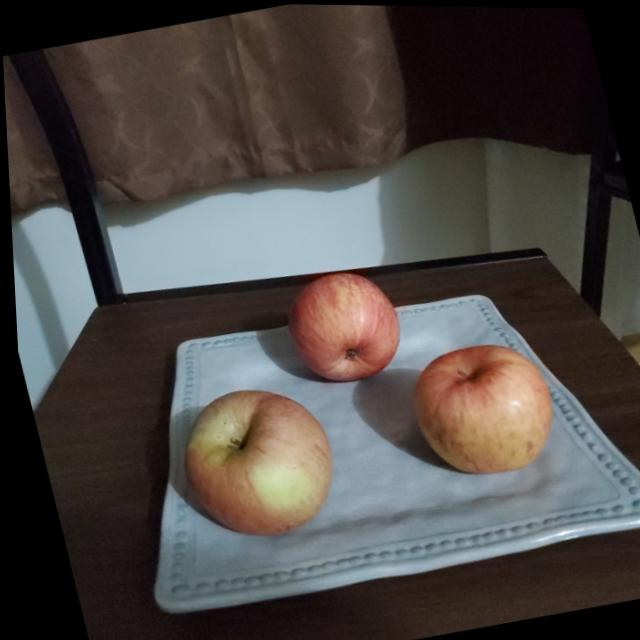apple: (166, 376, 342, 547), (398, 330, 563, 484), (277, 262, 410, 392)
